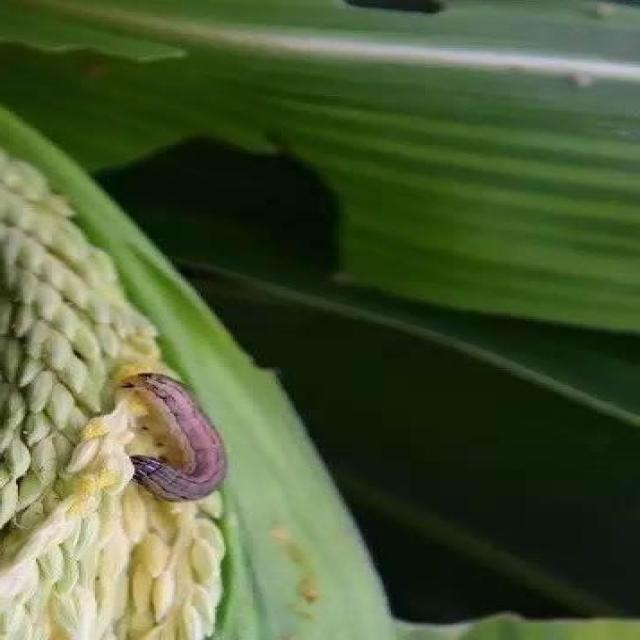army worm: (121, 369, 241, 508)
